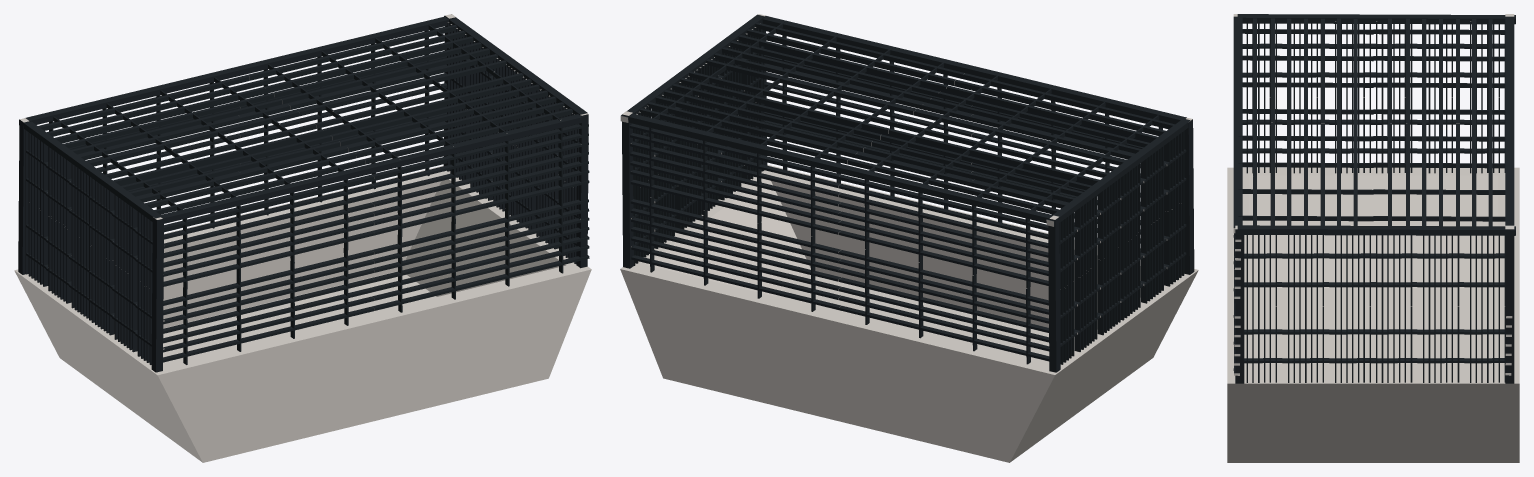
Rendered from SM_RatCage.fbx.
The picture shows the model from 3 angles, left to right: view 1: azimuth 30°, elevation 25°; view 2: azimuth 150°, elevation 25°; view 3: azimuth 270°, elevation 25°; orthographic projection.
Parts seen in each view (by area): view 1: SM_RatCage; view 2: SM_RatCage; view 3: SM_RatCage.
Boxes of the visible parts, bbox=[...] form: SM_RatCage: bbox=[14, 14, 591, 462]; SM_RatCage: bbox=[620, 14, 1198, 462]; SM_RatCage: bbox=[1227, 14, 1519, 462].
Size of the model in its own units: 86.47 by 47.63 by 49.32.
1 material, 1 textured.
